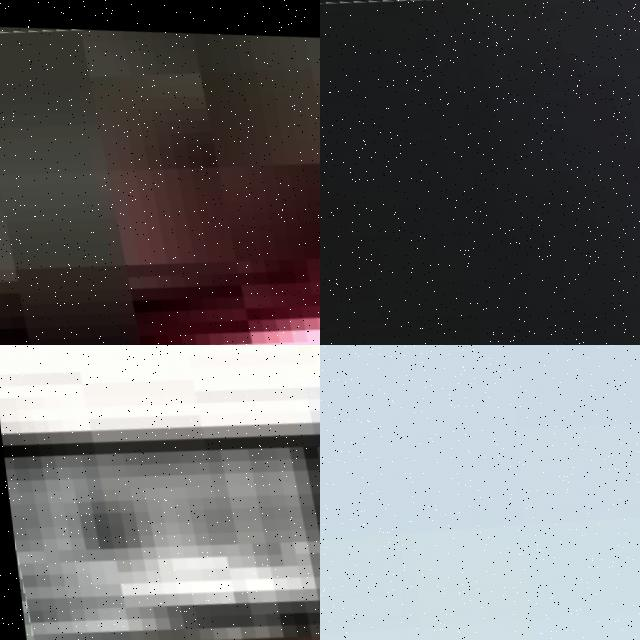0: (0, 0, 320, 345), (0, 345, 320, 640)
drone: (320, 0, 640, 345)
